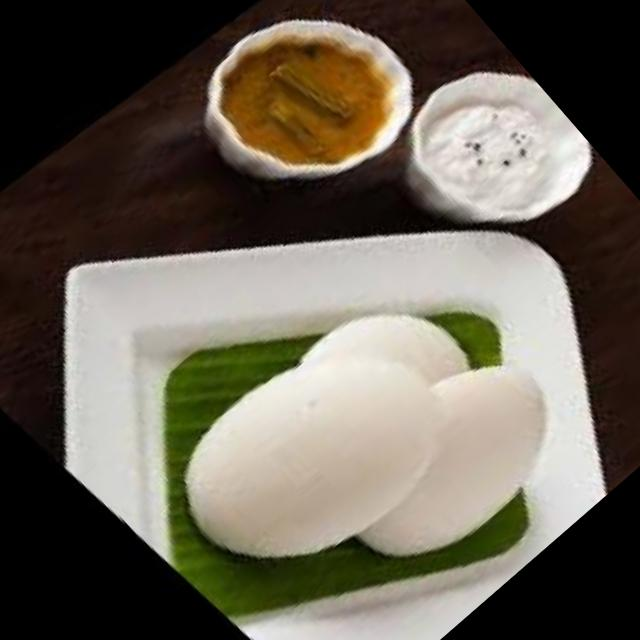idli: (132, 294, 473, 626), (291, 324, 582, 606), (282, 272, 465, 454)
